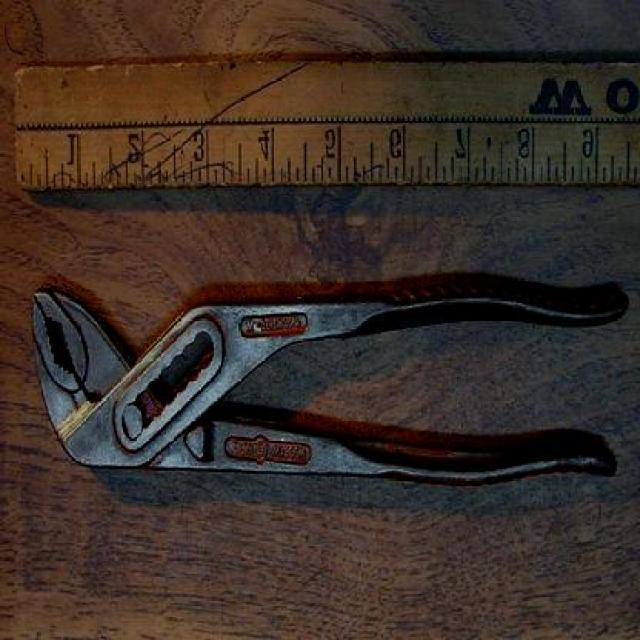pliers: (23, 275, 626, 488)
